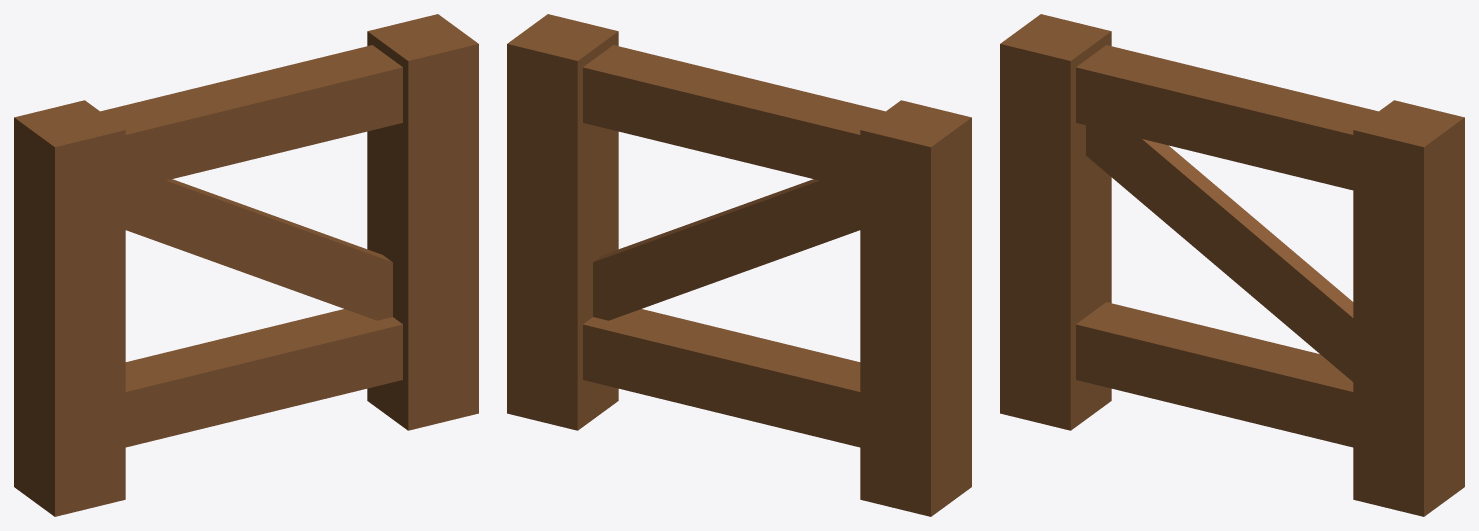
Rendered from FenceAEndLOD1.fbx.
The picture shows the model from 3 angles, left to right: view 1: azimuth 30°, elevation 25°; view 2: azimuth 150°, elevation 25°; view 3: azimuth 330°, elevation 25°; orthographic projection.
Parts seen in each view (by area): view 1: FenceAEndLOD1; view 2: FenceAEndLOD1; view 3: FenceAEndLOD1.
Boxes of the visible parts, left/top/right/bottom form: FenceAEndLOD1: left=14, top=14, right=478, bottom=516; FenceAEndLOD1: left=507, top=14, right=971, bottom=516; FenceAEndLOD1: left=1000, top=14, right=1464, bottom=516.
Bounding box in the file's own units: 120 × 100 × 20.
